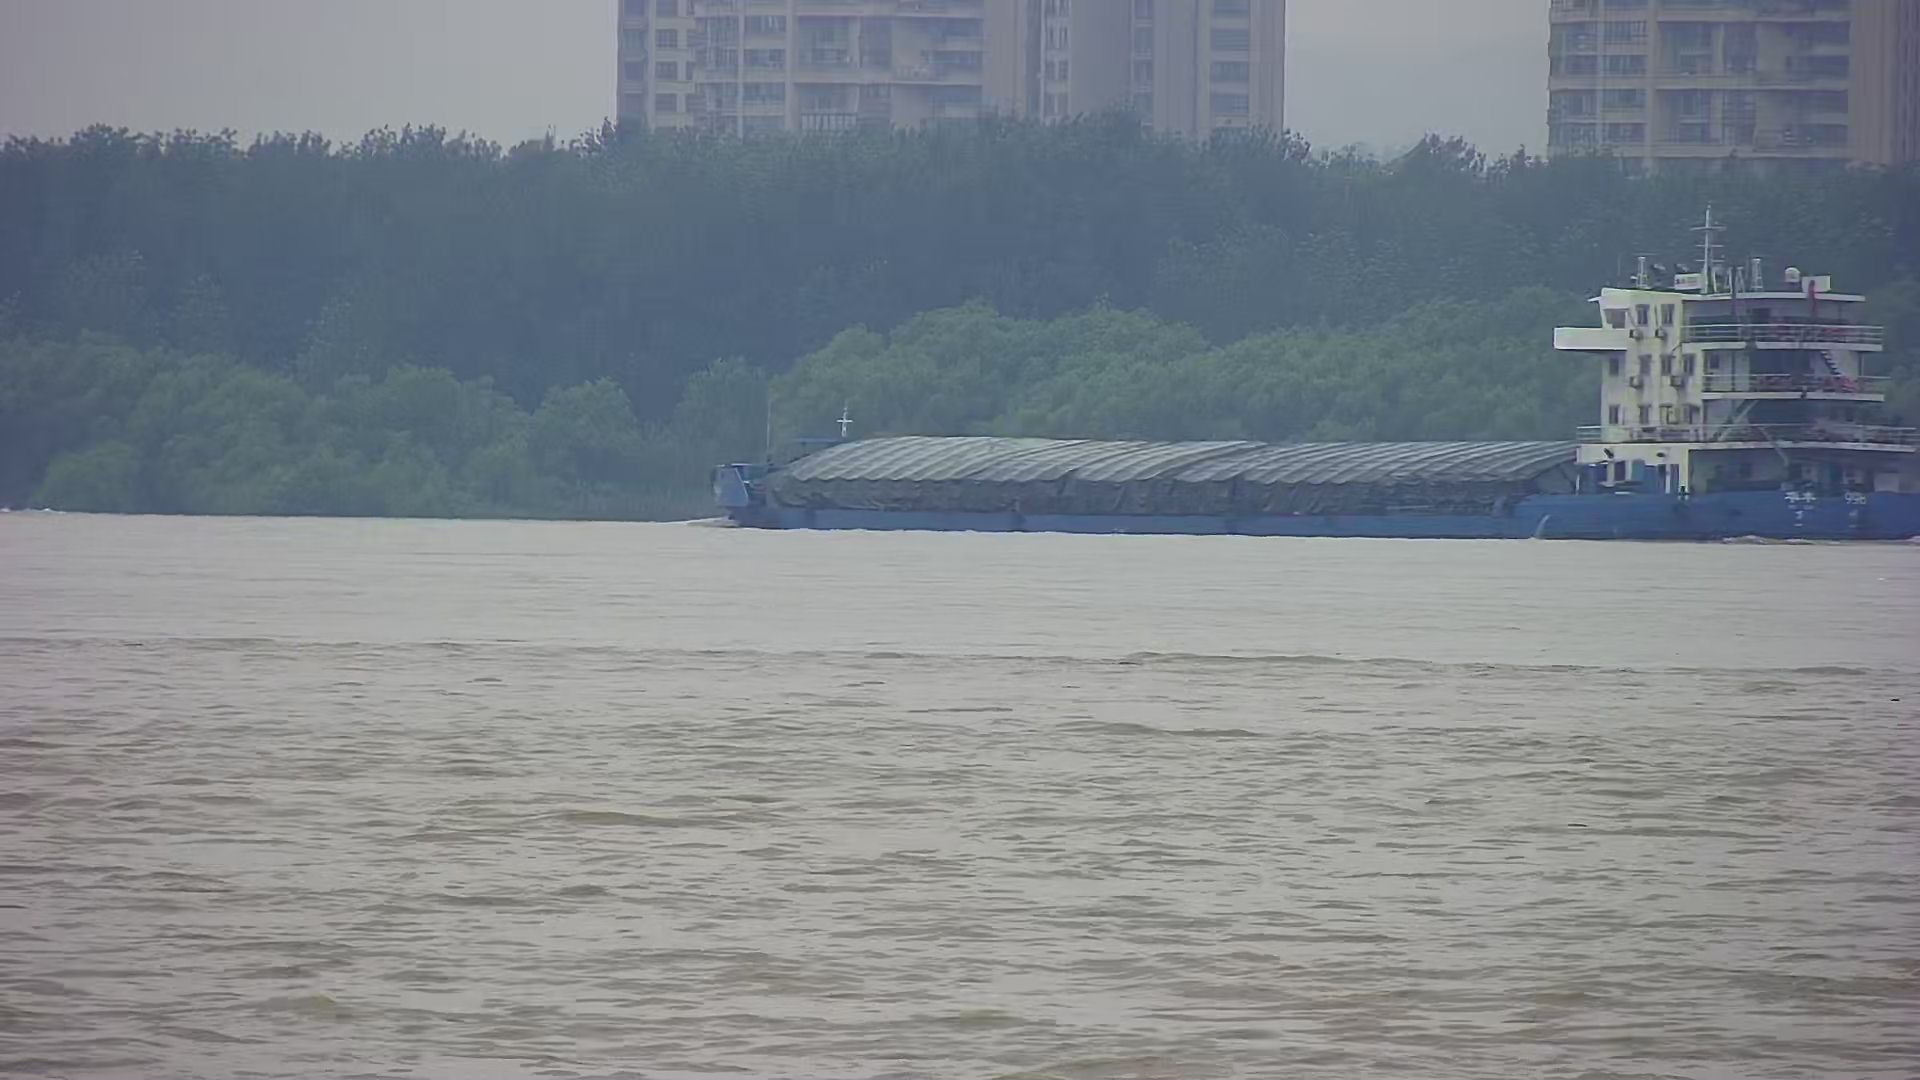ship: (703, 218, 1920, 549)
